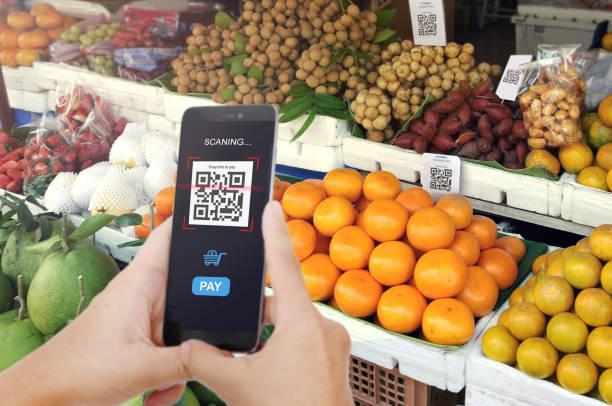Finder pattern: (192, 203, 212, 223), (195, 169, 214, 189), (228, 171, 247, 190), (429, 167, 439, 176), (444, 168, 453, 177), (429, 181, 438, 190), (429, 14, 437, 22), (418, 28, 426, 36), (417, 14, 424, 22), (515, 69, 523, 75), (502, 77, 508, 83)
